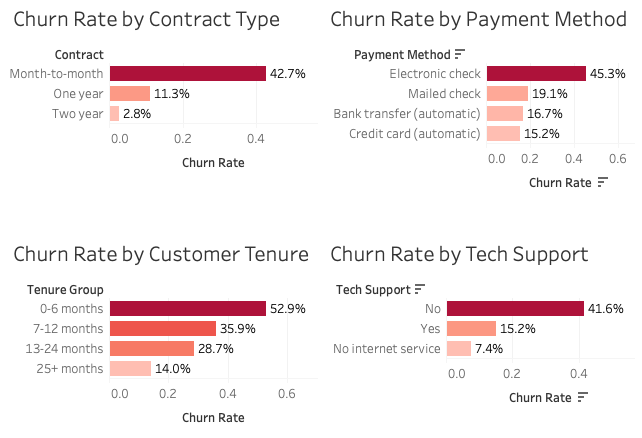

The page's visual inventory and layout, read from the dashboard file:
{"tool":"tableau","page":{"name":"Churn Predictors","canvas":[650,860],"ordinal":0},"visuals":[{"type":"worksheet","title":"Churn by Contract","mark":"Automatic","rows":["contract"],"cols":["Calculation_2320147963314176"],"box":[8,8,317,235]},{"type":"worksheet","title":"Churn by Payment","mark":"Automatic","rows":["payment_method"],"cols":["Calculation_2320147963314176"],"box":[325,8,317,235]},{"type":"worksheet","title":"Churn by Tenure","mark":"Automatic","rows":["Calculation_2320147965284353"],"cols":["Calculation_2320147963314176"],"box":[8,243,317,609]},{"type":"worksheet","title":"Churn by Tech Support","mark":"Automatic","rows":["tech_support"],"cols":["Calculation_2320147963314176"],"box":[325,243,317,609]}]}

Visuals, with their boxes on the page's 650x860 design canvas (x1, y1, x2, y2). These are canvas units, not pixel positions in the 642x438 screenshot, which may show the page scaled, cropped or inside an application window:
"Churn by Contract" worksheet: {"left": 8, "top": 8, "right": 325, "bottom": 243}
"Churn by Payment" worksheet: {"left": 325, "top": 8, "right": 642, "bottom": 243}
"Churn by Tenure" worksheet: {"left": 8, "top": 243, "right": 325, "bottom": 852}
"Churn by Tech Support" worksheet: {"left": 325, "top": 243, "right": 642, "bottom": 852}
